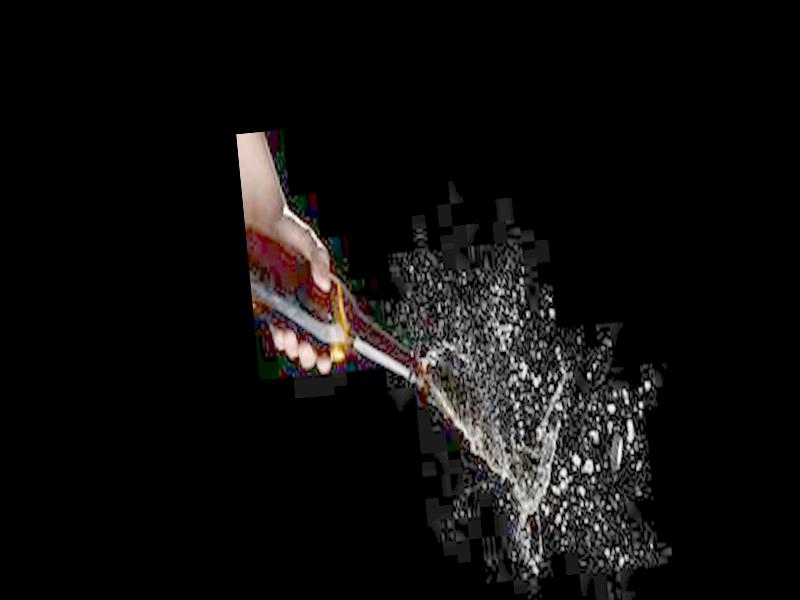Beer: (245, 204, 426, 407)
